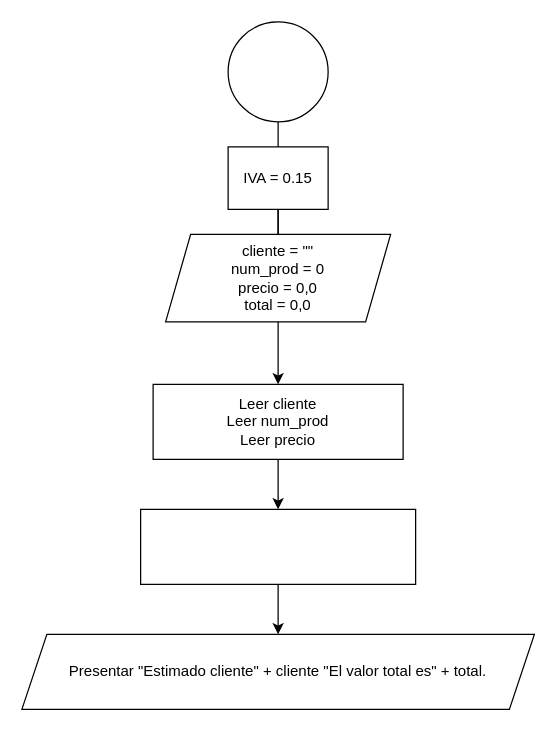
The diagram is 556 pixels wide and 731 high, and some of its shapes have lost their labels. The box of each missing label's shape, as (x1, y1, x2, y2) in pixels:
Inicio: (227, 21, 328, 122)
subtotal = num_prod * precio total = subtotal + (subtotal * IVA): (139, 508, 416, 584)
